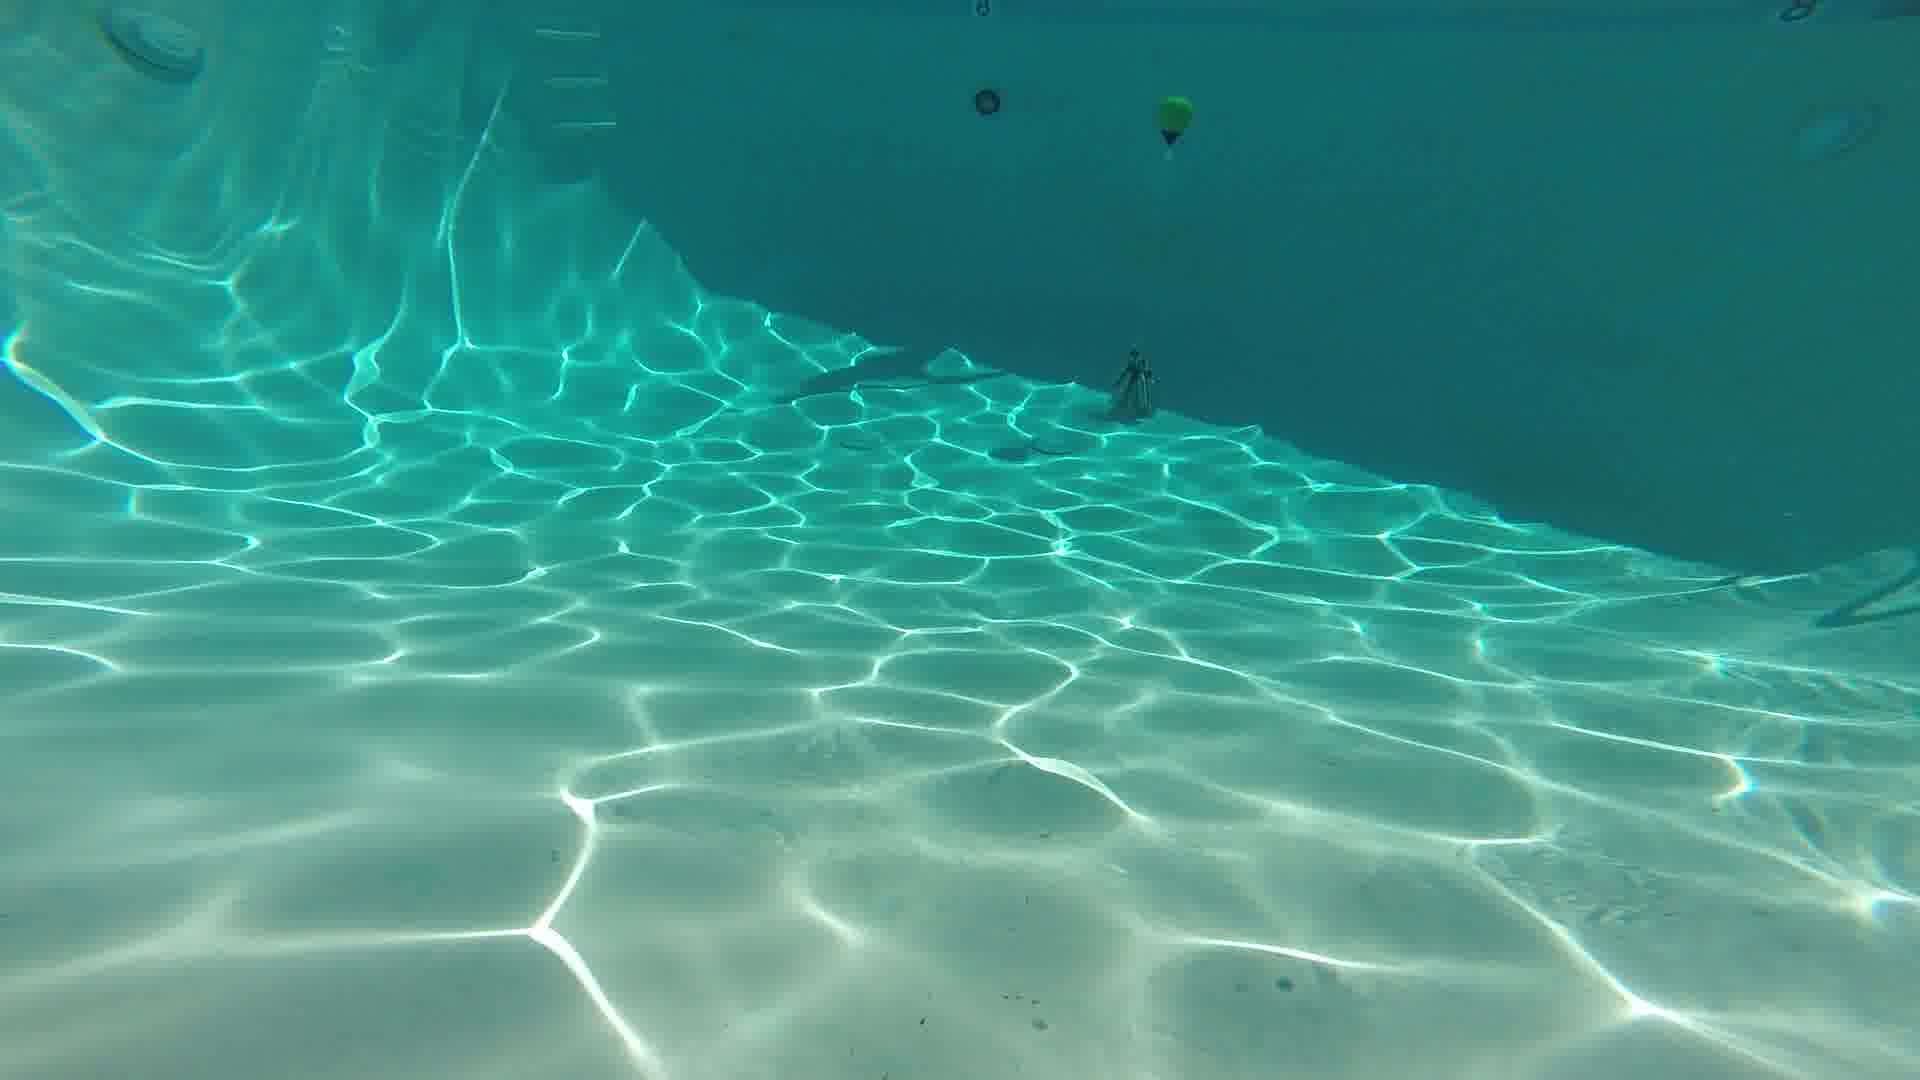yellow buoy: (1153, 86, 1200, 160)
